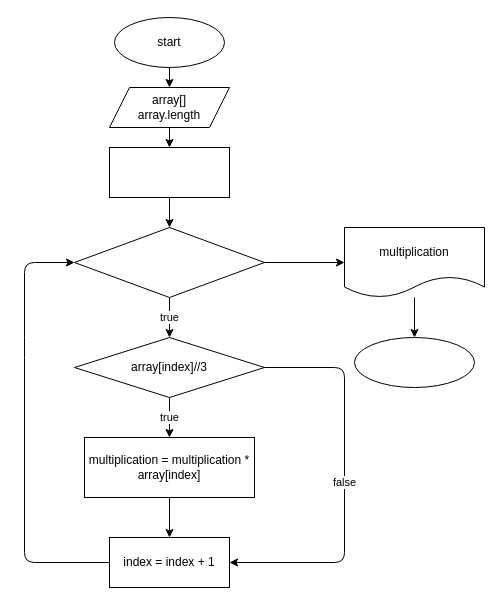
This 502x605 diagram has some shape labels left out. The centre of each missing label's shape, as x and y in pixels:
end: point 414,362
index = 0 multiplication = 1: point 169,172
index<array.length: point 169,262
